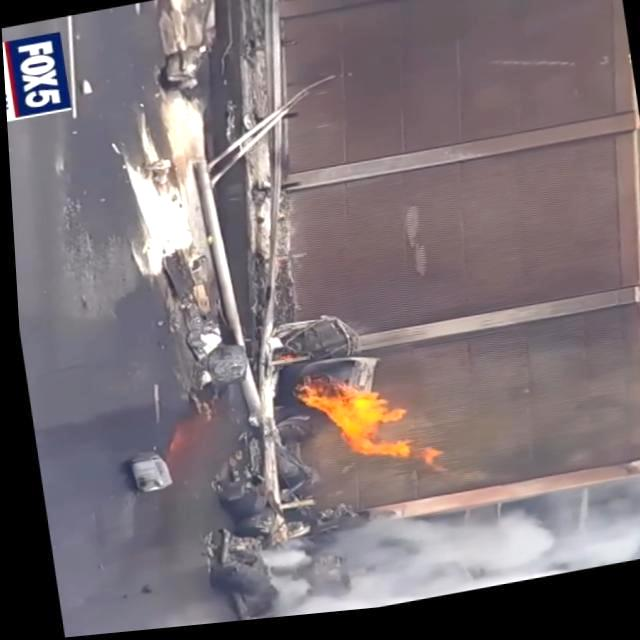fire: (280, 370, 440, 498)
